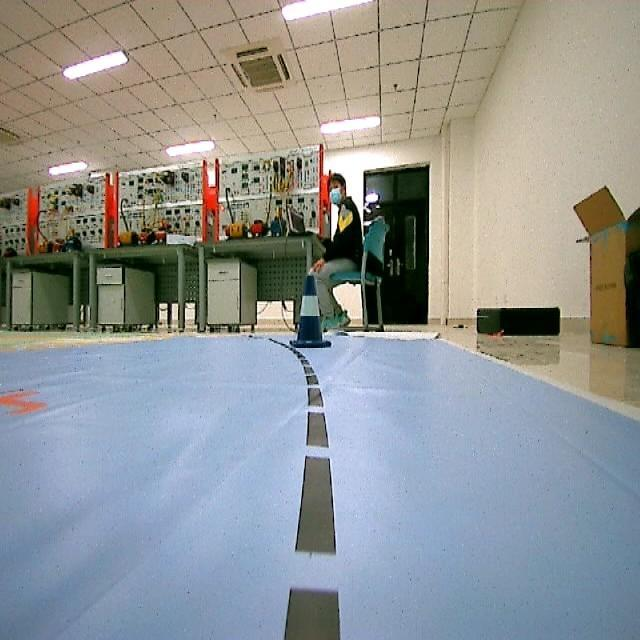obstacle: (295, 269, 331, 350)
